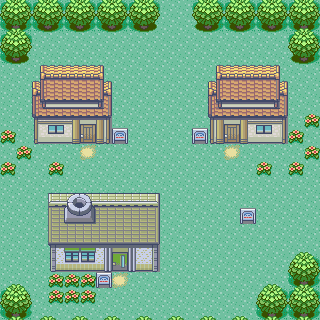misc: (46, 191, 162, 275)
normal_house: (30, 63, 114, 146), (207, 64, 290, 146)
